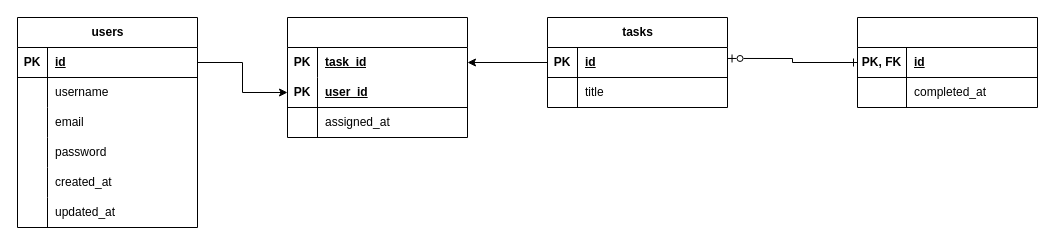
Image size: 1055x245. Some labels were removed from this diagram. The shapes that lost their labels are listed below. From the top down, each one's box as (x1, y1, x2, y2) in pixels, then its label:
(286, 16, 468, 138): task_assignments
(856, 16, 1038, 108): completed_tasks
